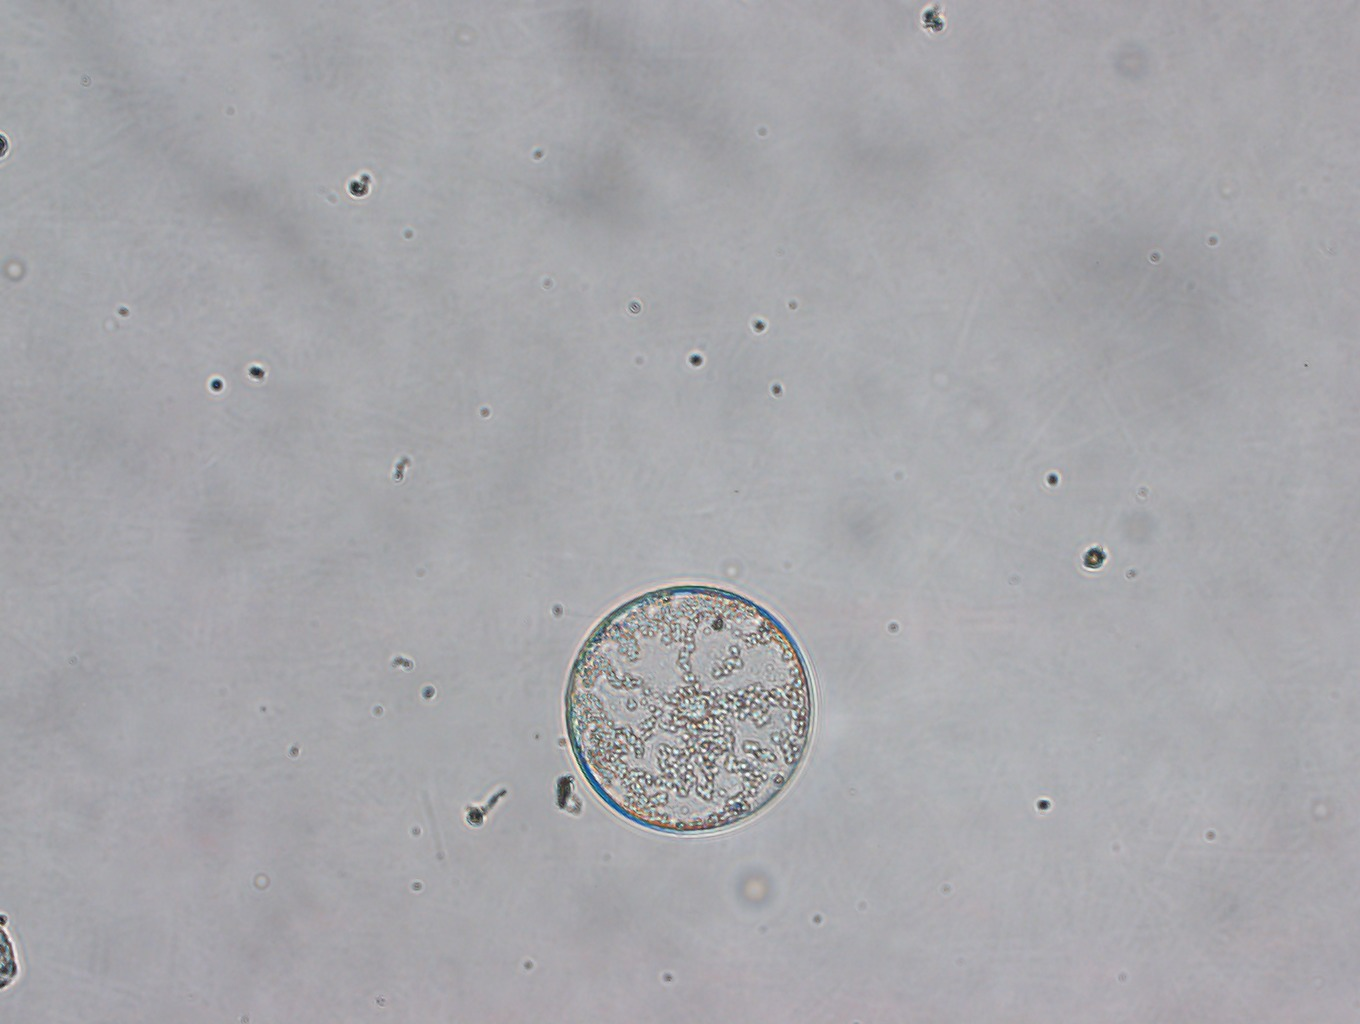coscinodiscus: (563, 583, 816, 839)
